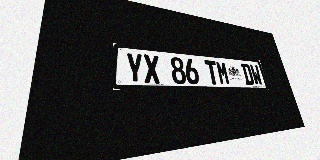6: (183, 58, 200, 84)
8: (170, 57, 187, 84)
D: (240, 63, 255, 85)
M: (215, 61, 231, 85)
T: (204, 60, 220, 85)
W: (249, 64, 263, 85)
X: (143, 54, 161, 84)
Y: (125, 52, 144, 83)
